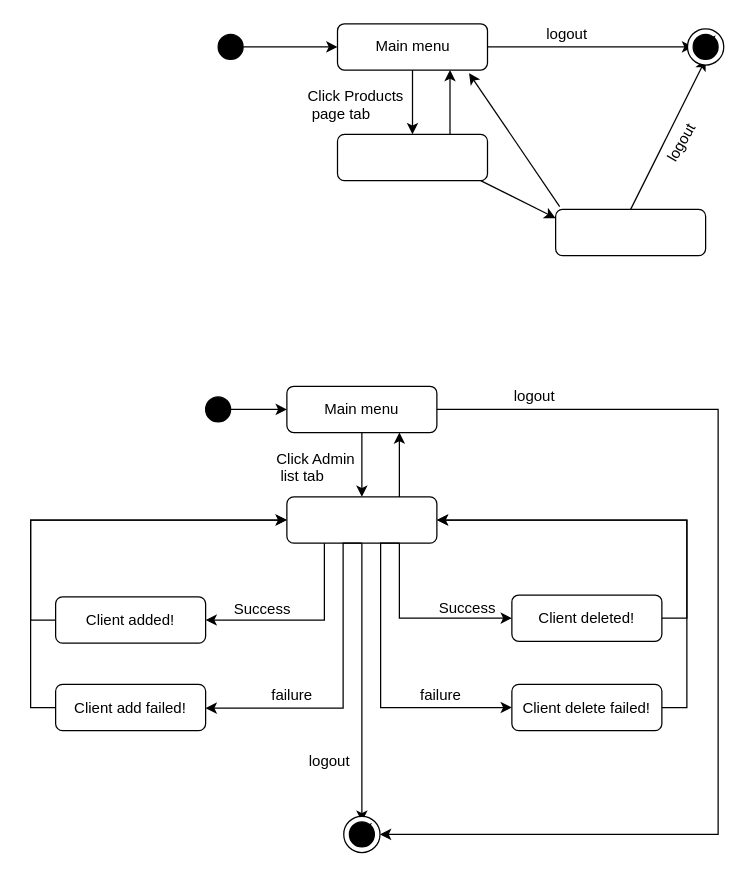
The diagram is 750 pixels wide and 874 high, and some of its shapes have lost their labels. Each missing label, with the centre of its shape:
"Admin login page -See list" belongs at point 361,519.
"Products" belongs at point 412,157.
"Purchase" belongs at point 630,232.
